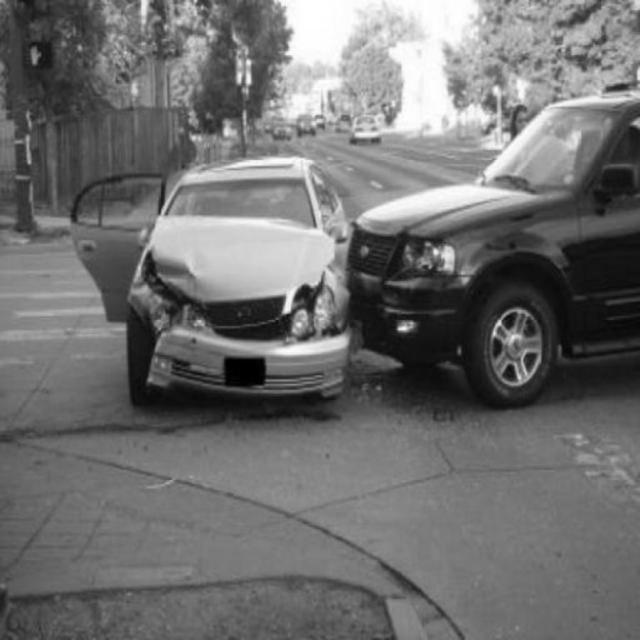accident: (141, 81, 637, 399)
vehicle: (351, 112, 385, 150)
